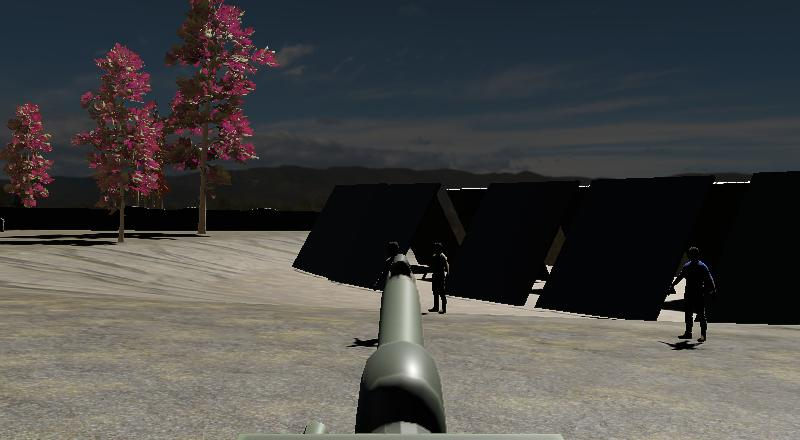Human: (664, 242, 722, 346), (424, 239, 452, 316)
